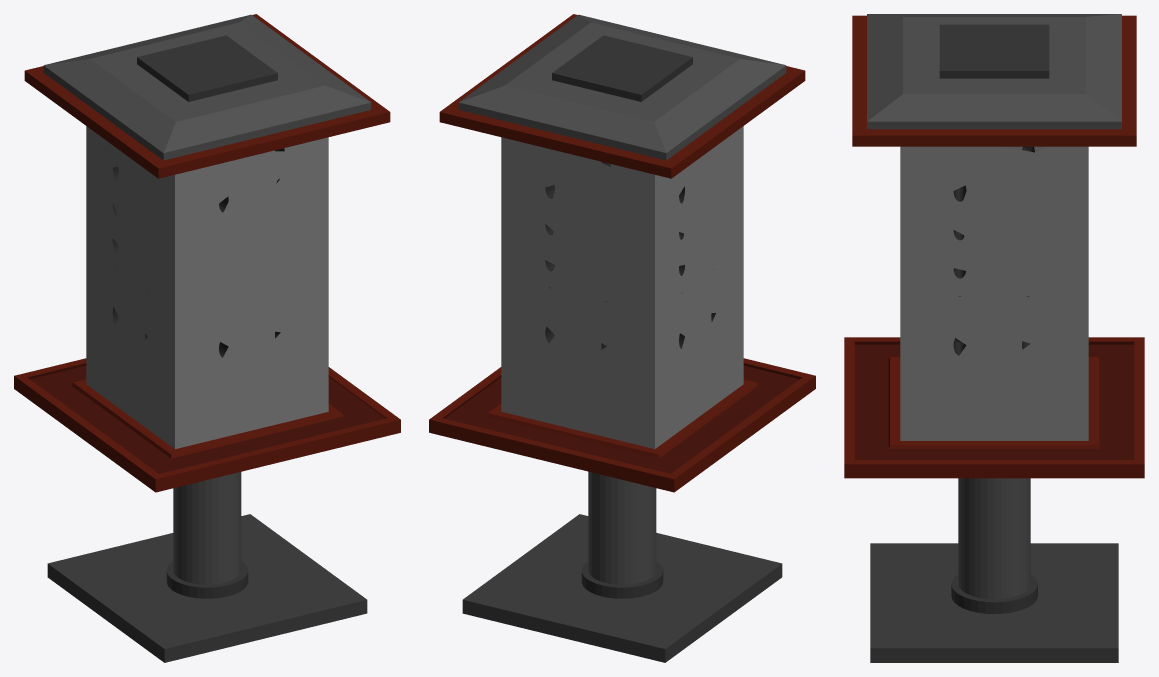
The model's file is Small Sunglass Shelf.fbx.
The picture shows the model from 3 angles, left to right: view 1: azimuth 30°, elevation 25°; view 2: azimuth 150°, elevation 25°; view 3: azimuth 270°, elevation 25°; orthographic projection. The views are drawn at different scales.
Parts seen in each view (by area): view 1: Small Sunglass Shelf; view 2: Small Sunglass Shelf; view 3: Small Sunglass Shelf.
Boxes of the visible parts, box(x1,y1,x2,y2) form: Small Sunglass Shelf: box(14, 14, 400, 662); Small Sunglass Shelf: box(429, 14, 815, 662); Small Sunglass Shelf: box(844, 14, 1144, 662).
Size of the model in its own units: 39.47 by 81.57 by 39.47.
Materials: 1 (1 with a texture image).
